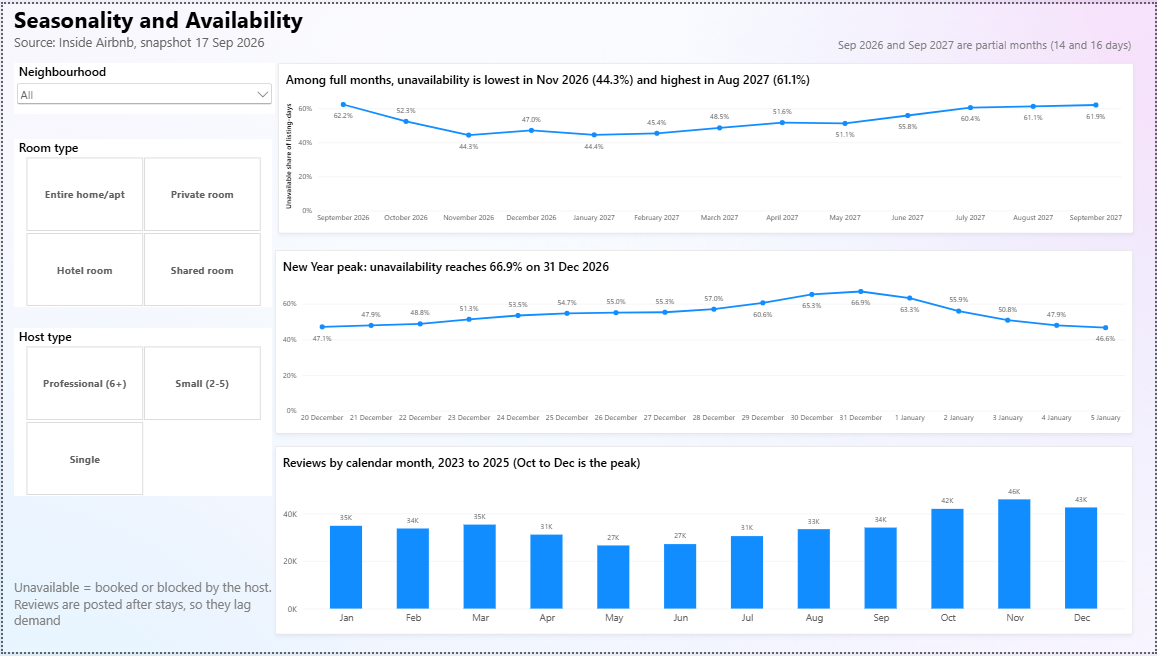

The page's visual inventory and layout, read from the dashboard file:
{"tool":"powerbi","page":{"name":"Seasonality & availability","canvas":[1920,1080],"ordinal":1},"visuals":[{"type":"slicer","title":"Neighbourhood","fields":{"Values":["Neighbourhood.neighbourhood"]},"box":[18.3,98.3,435,85],"z":0},{"type":"slicer","fields":{"Values":["RoomType.room_type"]},"box":[18.3,225,430,280],"z":1},{"type":"slicer","fields":{"Values":["HostType.host_type"]},"box":[18.3,540,430,280],"z":2},{"type":"lineChart","title":"Among full months, unavailability is lowest in Nov 2026 (44.3%) and highest in Aug 2027 (61.1%)","fields":{"Category":["DimDate.Month Start"],"Y":["_Measures.Unavailability %"]},"box":[458,98,1426,284],"z":3},{"type":"textbox","box":[1391.7,55,501.7,43.3],"z":4},{"type":"lineChart","title":"New Year peak: unavailability reaches 66.9% on 31 Dec 2026","fields":{"Category":["DimDate.Date"],"Y":["_Measures.Unavailability %"]},"box":[454,410,1430,306],"z":5},{"type":"clusteredColumnChart","title":"Reviews by calendar month, 2023 to 2025 (Oct to Dec is the peak)","fields":{"Category":["DimDate.Month"],"Y":["_Measures.Reviews"]},"box":[454,736,1430,314],"z":6},{"type":"textbox","box":[18.3,0,848.3,81.7],"z":7},{"type":"textbox","box":[18,956,430,94],"z":8}]}

Visuals, with their boxes in screenshot pixels (x1, y1, x2, y2), scaled from the page's 1920x1080 canvas onto the 1157x656 screenshot:
"Neighbourhood" slicer: (left=11, top=60, right=273, bottom=111)
slicer - RoomType.room_type: (left=11, top=137, right=270, bottom=307)
slicer - HostType.host_type: (left=11, top=328, right=270, bottom=498)
"Among full months, unavailability is lowest in Nov 2026 (44.3%) and highest in Aug 2027 (61.1%)" lineChart: (left=276, top=60, right=1135, bottom=232)
textbox: (left=839, top=33, right=1141, bottom=60)
"New Year peak: unavailability reaches 66.9% on 31 Dec 2026" lineChart: (left=274, top=249, right=1135, bottom=435)
"Reviews by calendar month, 2023 to 2025 (Oct to Dec is the peak)" clusteredColumnChart: (left=274, top=447, right=1135, bottom=638)
textbox: (left=11, top=0, right=522, bottom=50)
textbox: (left=11, top=581, right=270, bottom=638)
